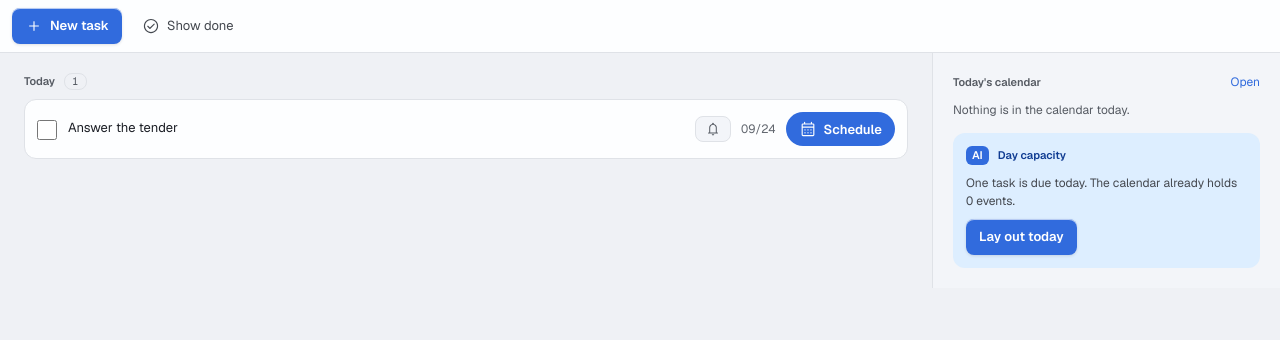
Test: TasksSpace › marks a task done and says so
Click the checkbox named "Mark Answer the tender as done": (47, 130) [37, 120, 57, 140]
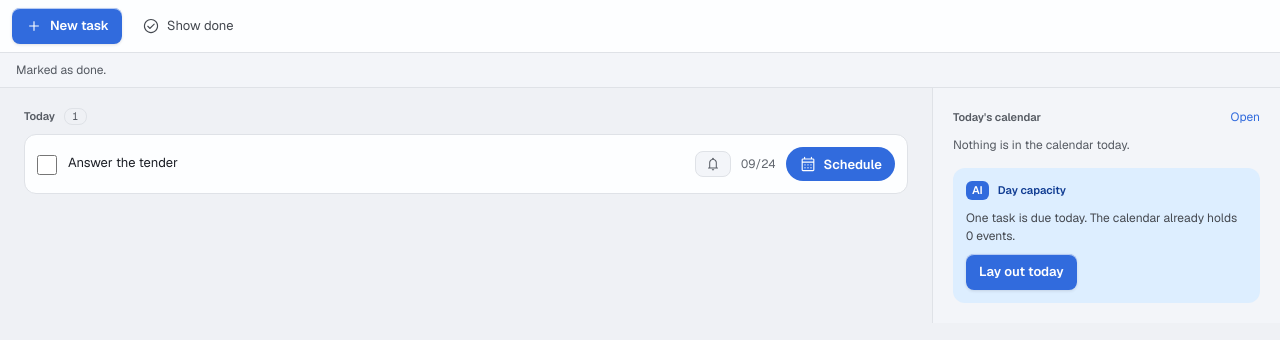
Now the message reads "Marked as done.", box [16, 62, 106, 78]
